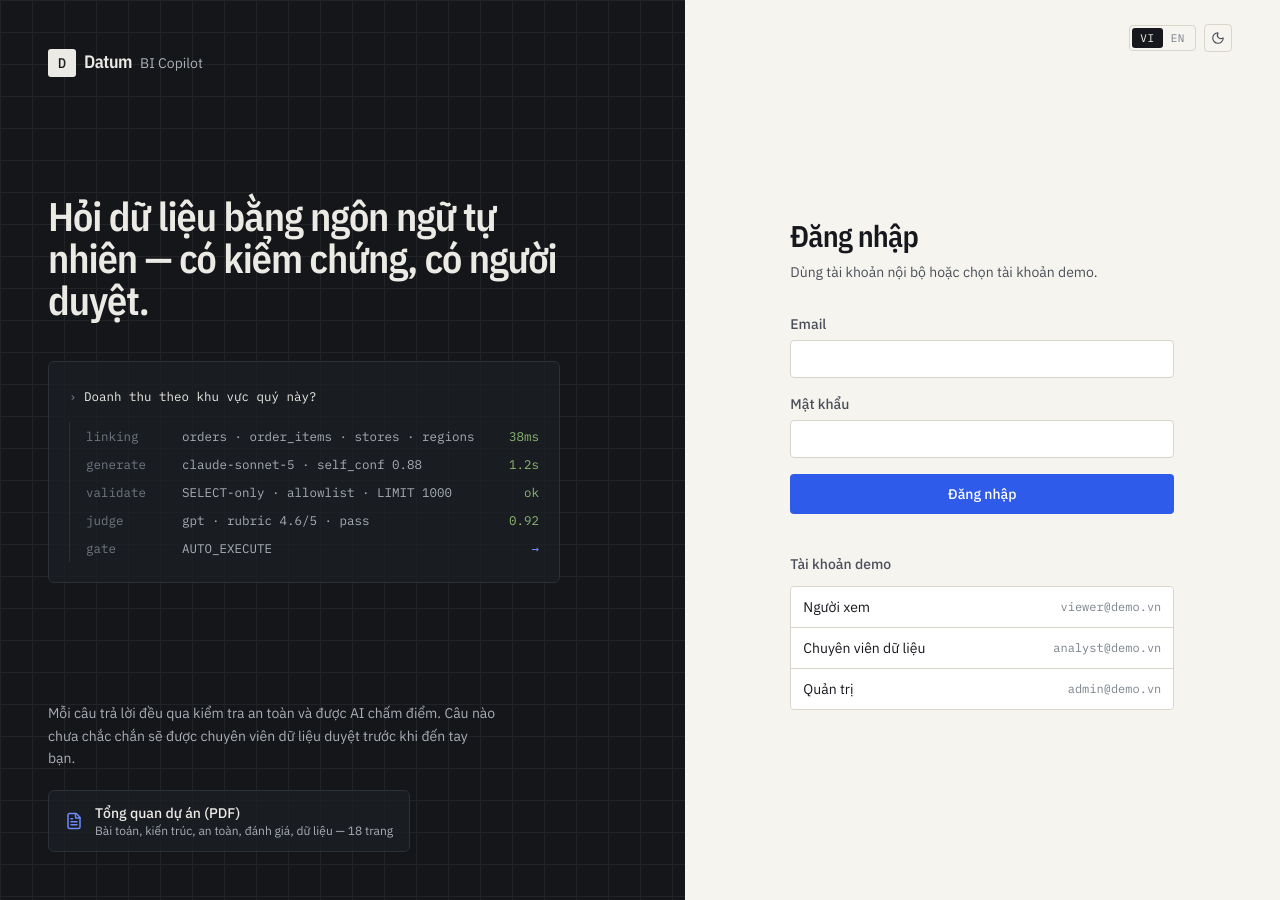
routing & login › shows a localized error for invalid credentials
Type "viewer@demo.vn" into the field labelled "Email".
click(982, 359); type("viewer@demo.vn")  # box top-left (790, 340), bottom-right (1174, 378)
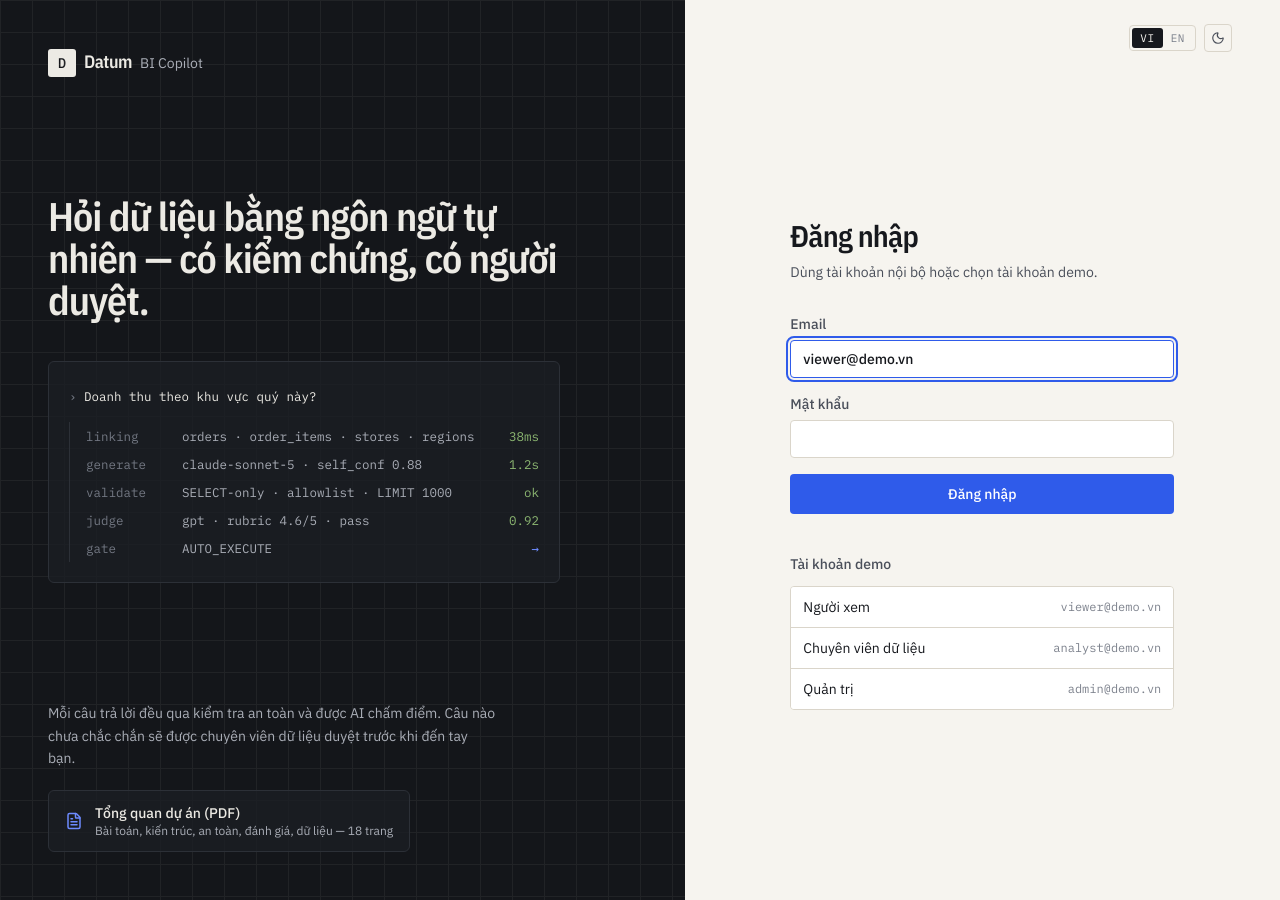
Type "nope" into the password field labelled "Mật khẩu".
click(982, 439); type("nope")  # box top-left (790, 420), bottom-right (1174, 458)
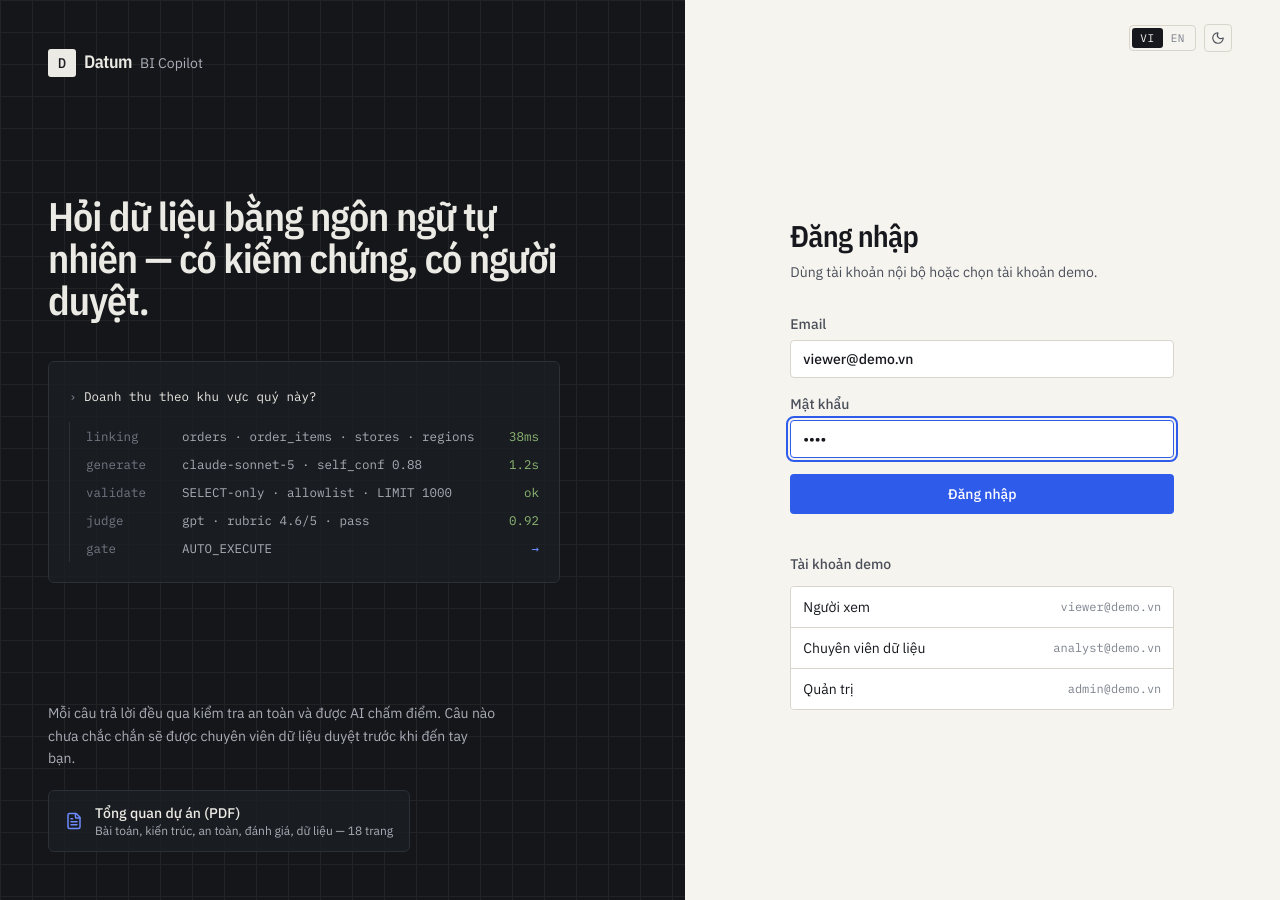
Click the button "Đăng nhập".
click(982, 494)  # box top-left (790, 474), bottom-right (1174, 514)
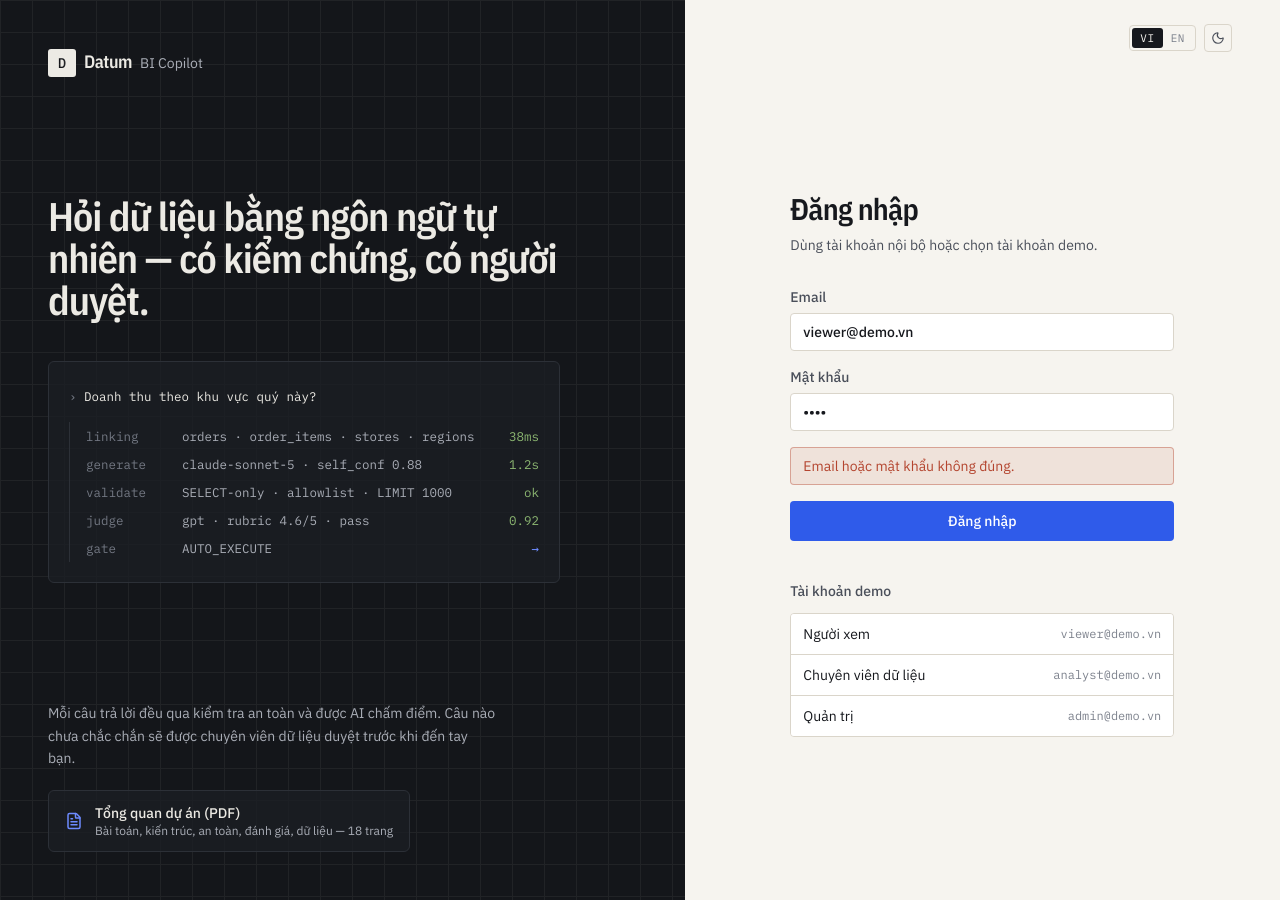
Expected: the message reads "Email hoặc mật khẩu không đúng.", top-left (803, 457), bottom-right (1015, 475)
